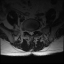CCS_normal: (30, 28, 32, 37)
LFS_stenosis: (34, 28, 36, 33)
LLS_normal: (32, 28, 34, 36)
RFS_stenosis: (25, 27, 27, 34)
RLS_normal: (27, 28, 30, 35)
